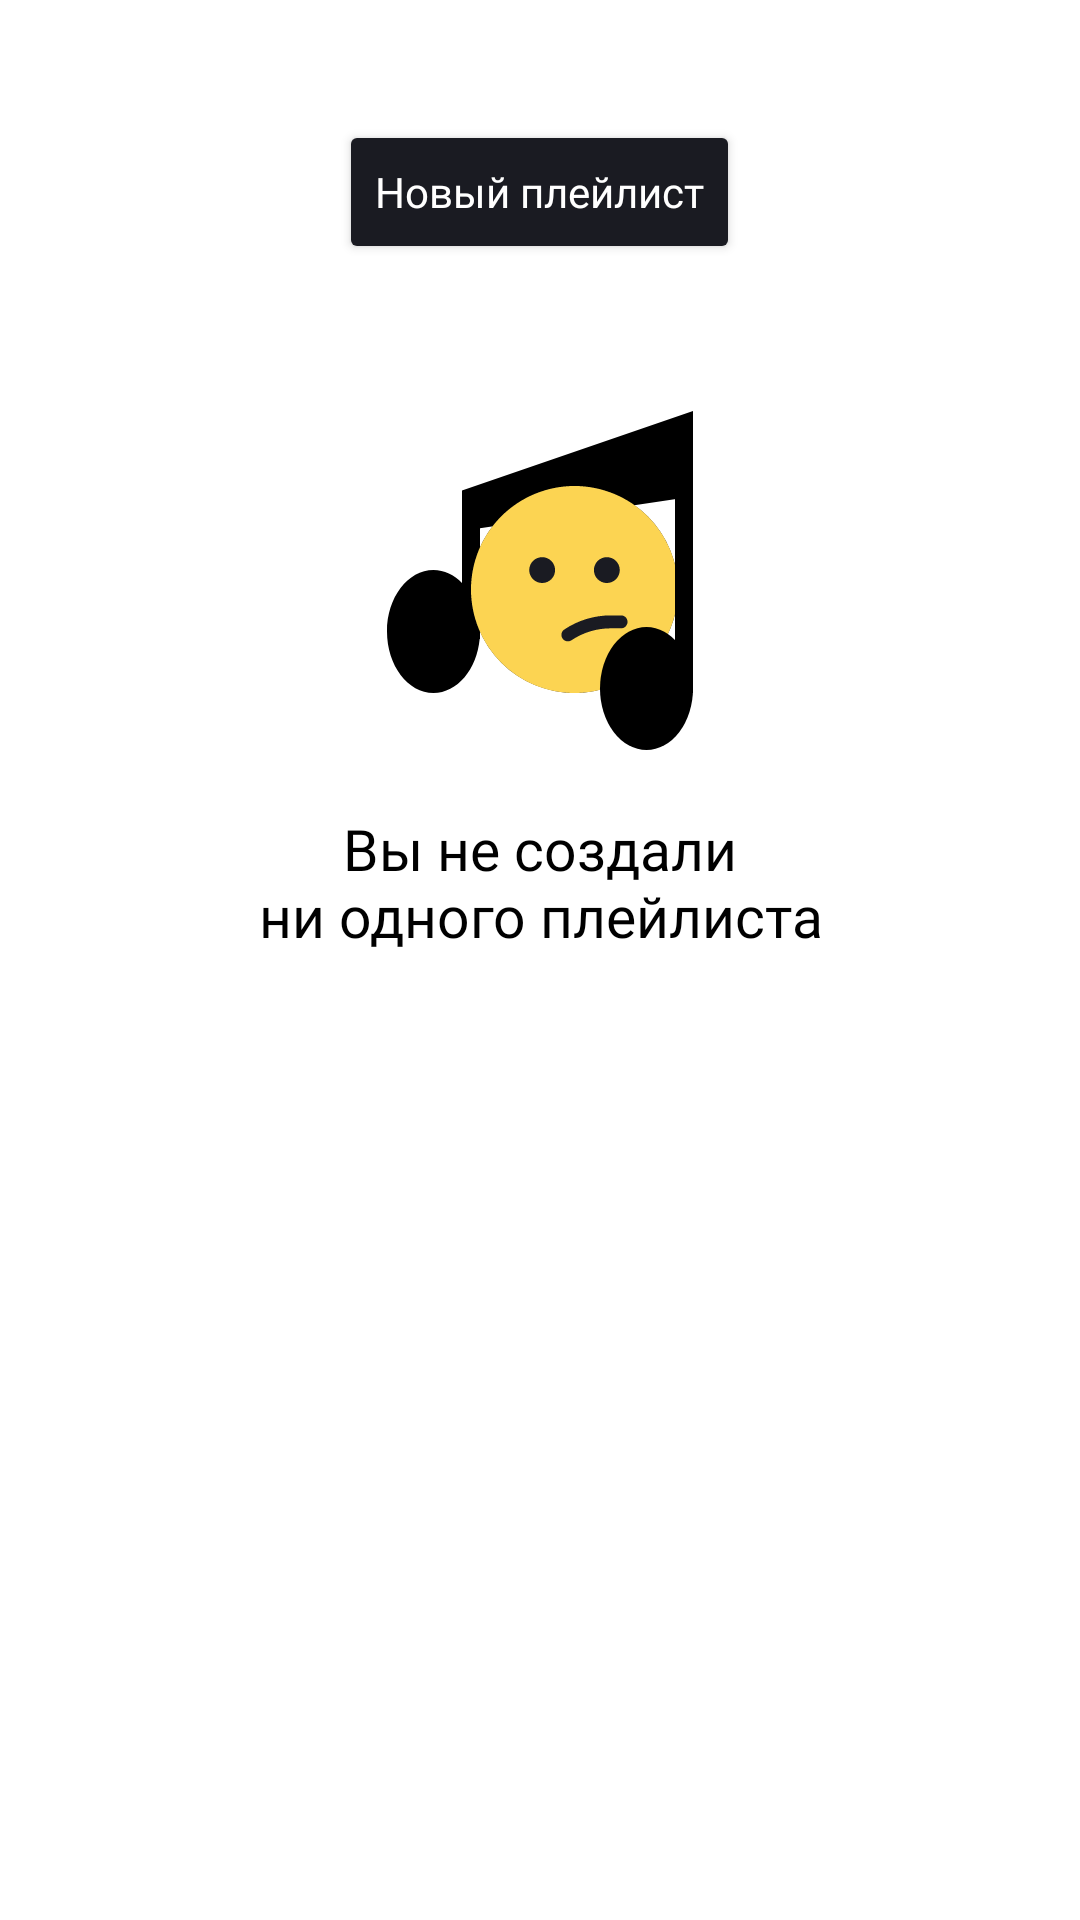

Screen size 1080px x 1920px. Icon name, then its center in pixels as point (x, y):
not found: point (540, 580)
